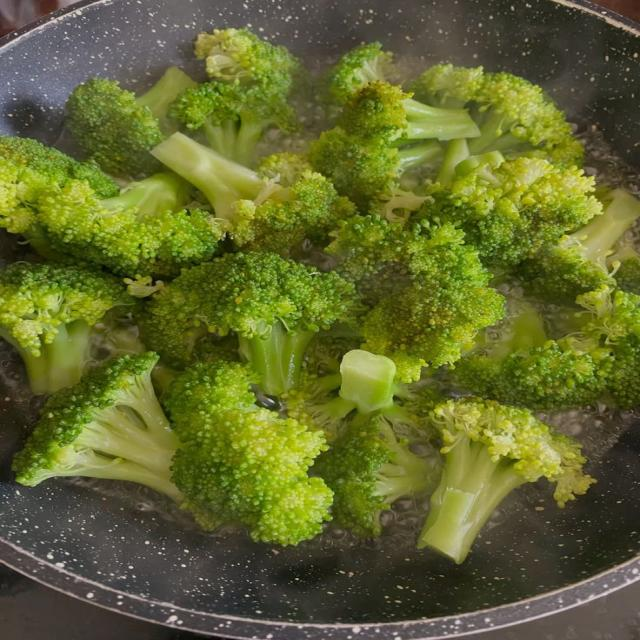broccoli: (14, 352, 220, 529), (164, 361, 332, 544), (141, 252, 354, 395), (327, 216, 504, 381), (419, 399, 594, 563), (287, 350, 437, 536), (14, 353, 181, 502), (153, 134, 353, 255), (310, 82, 479, 206), (418, 158, 601, 272), (38, 173, 224, 277), (170, 29, 300, 165), (410, 64, 583, 166), (170, 29, 299, 165), (0, 263, 134, 393), (454, 304, 612, 410), (314, 414, 438, 536), (0, 136, 118, 257), (67, 68, 196, 176), (519, 189, 639, 304), (286, 349, 431, 441), (170, 82, 298, 165), (339, 81, 479, 144), (576, 286, 639, 408), (194, 29, 299, 90), (326, 42, 393, 106), (370, 186, 430, 223), (256, 152, 312, 187), (608, 239, 639, 294)
